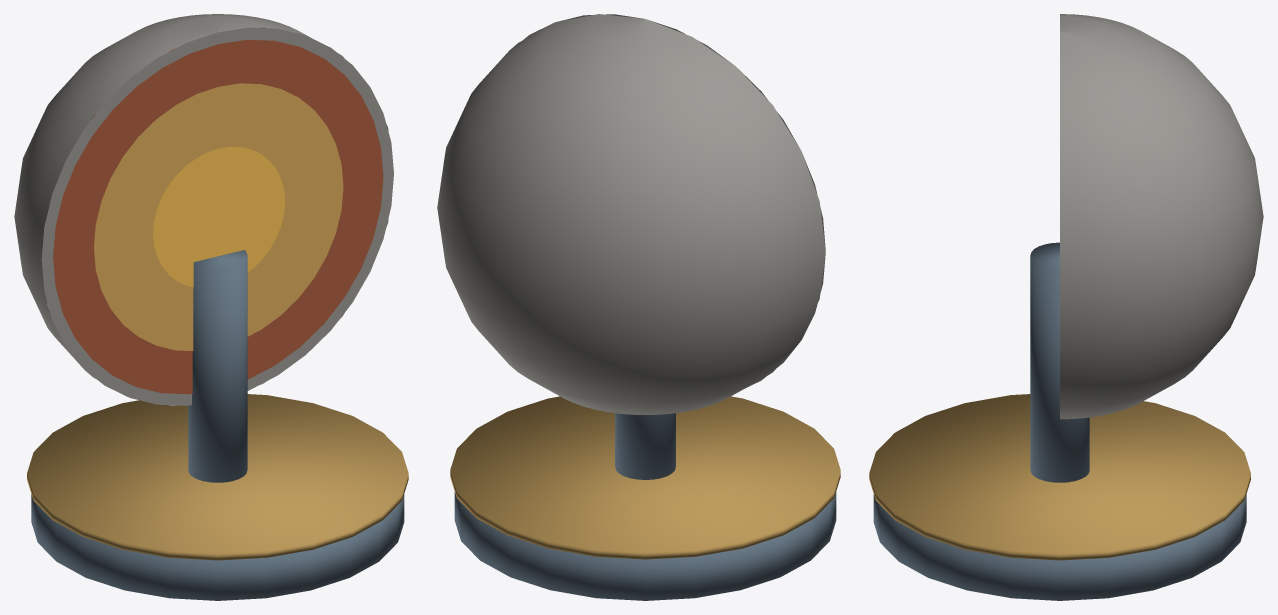
File: earthsky-layers-v1-normal.glb
The picture shows the model from 3 angles, left to right: view 1: azimuth 30°, elevation 25°; view 2: azimuth 150°, elevation 25°; view 3: azimuth 270°, elevation 25°; orthographic projection. The views are drawn at different scales.
Visible parts, largest first — view 1: brass-trim, cut-face-1, cut-face-2, weighted-base, layer-0, cut-face-3, pedestal, cut-face-0; view 2: layer-0, brass-trim, weighted-base, pedestal, cut-face-0; view 3: layer-0, brass-trim, weighted-base, pedestal.
Part boxes in pixels (<box>): brass-trim: <box>27,394,408,560</box>; cut-face-1: <box>53,39,383,394</box>; cut-face-2: <box>94,83,343,350</box>; weighted-base: <box>31,494,404,600</box>; layer-0: <box>14,14,388,405</box>; cut-face-3: <box>153,146,285,287</box>; pedestal: <box>188,250,247,482</box>; cut-face-0: <box>41,27,393,405</box>; layer-0: <box>437,14,825,414</box>; brass-trim: <box>450,396,840,559</box>; weighted-base: <box>454,492,836,600</box>; pedestal: <box>615,413,675,479</box>; cut-face-0: <box>523,14,825,387</box>; layer-0: <box>1060,14,1263,419</box>; brass-trim: <box>869,394,1250,560</box>; weighted-base: <box>873,494,1246,600</box>; pedestal: <box>1030,242,1089,482</box>.
Size of the model in its own units: 0.48 by 0.6375 by 0.465.
